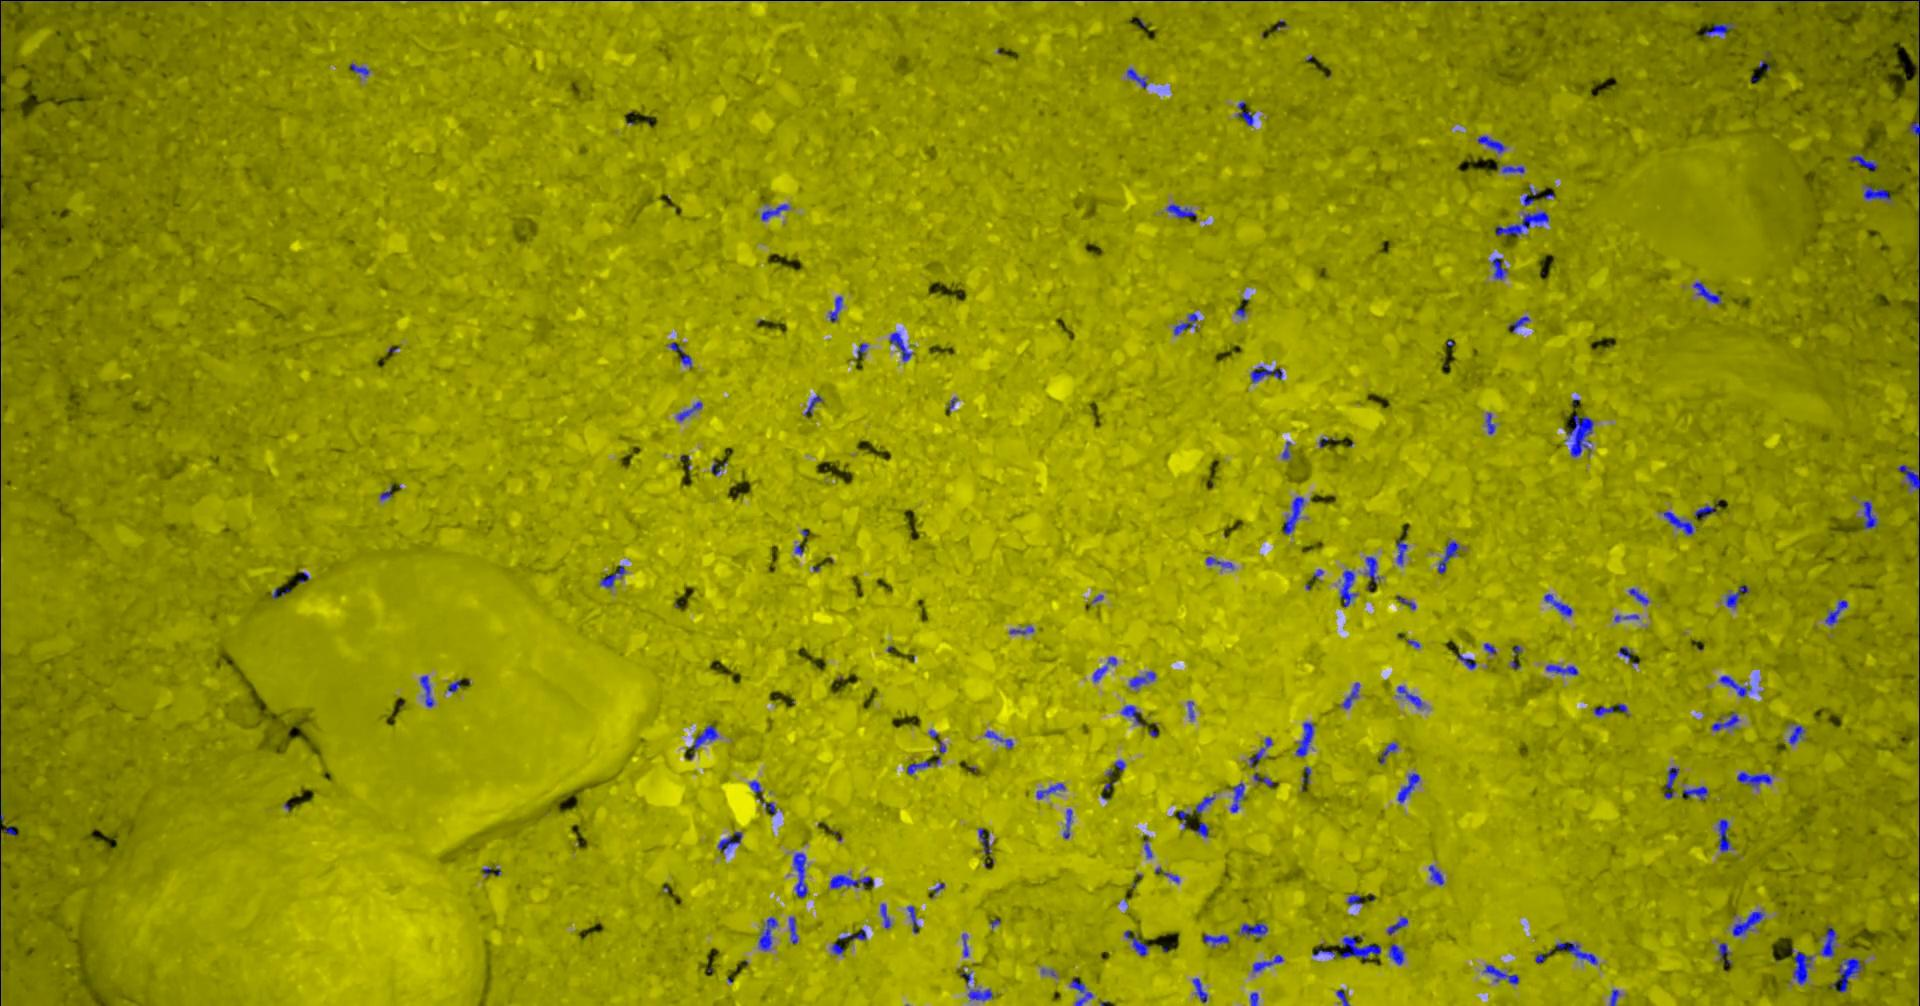ant: (1788, 0, 1919, 13), (1312, 936, 1380, 959), (1495, 211, 1548, 235), (1909, 20, 1919, 136), (1830, 956, 1862, 992), (1567, 415, 1592, 456), (1556, 941, 1597, 964), (1283, 495, 1303, 533), (1732, 911, 1763, 935), (1437, 540, 1459, 573), (692, 724, 717, 752), (889, 332, 913, 361), (1248, 737, 1272, 766), (792, 852, 808, 897), (1792, 951, 1812, 984), (1663, 511, 1693, 533), (1543, 593, 1572, 616), (1069, 976, 1092, 1005), (1719, 674, 1750, 696), (1338, 569, 1356, 606), (1483, 964, 1517, 983), (1123, 930, 1148, 955), (1397, 772, 1418, 801), (758, 917, 777, 950), (1823, 600, 1848, 625), (1693, 281, 1719, 304), (1396, 685, 1422, 708), (1295, 721, 1313, 756), (829, 874, 872, 888), (1250, 365, 1283, 382), (1736, 771, 1771, 788), (668, 342, 691, 367), (905, 757, 940, 774), (1820, 925, 1837, 956), (1848, 152, 1877, 171), (1897, 464, 1919, 489), (599, 565, 625, 587), (1252, 954, 1283, 972), (1710, 711, 1738, 730), (1173, 312, 1197, 334), (1724, 586, 1749, 607), (717, 831, 742, 852), (1477, 135, 1505, 152), (984, 730, 1012, 748), (676, 401, 701, 420), (761, 203, 789, 220), (1341, 682, 1359, 708), (1166, 203, 1195, 218), (1229, 782, 1244, 812), (419, 674, 433, 706), (1129, 671, 1156, 687), (1121, 705, 1143, 725), (1663, 767, 1677, 798), (1036, 782, 1064, 798), (1239, 922, 1267, 937), (1717, 819, 1730, 852), (1126, 67, 1147, 88), (905, 904, 919, 934), (1236, 102, 1253, 124), (1863, 184, 1890, 199), (1364, 556, 1379, 583), (1704, 22, 1732, 36), (1863, 500, 1877, 528), (1192, 977, 1208, 1002), (1379, 742, 1397, 763), (1491, 257, 1507, 279), (804, 395, 822, 415), (1385, 917, 1407, 934), (828, 296, 842, 321), (1681, 786, 1707, 800), (1203, 934, 1228, 948), (1694, 504, 1717, 520), (978, 827, 990, 854), (1628, 588, 1648, 605), (1194, 796, 1214, 813), (1507, 316, 1529, 332), (1388, 942, 1403, 964), (1545, 664, 1577, 674), (1205, 556, 1233, 568), (838, 929, 866, 940), (1523, 185, 1539, 205), (1457, 653, 1476, 669), (1788, 725, 1804, 744), (1062, 808, 1072, 838), (1396, 539, 1407, 564), (1429, 865, 1443, 884), (1718, 942, 1731, 963), (880, 903, 890, 927), (968, 989, 992, 1000), (349, 64, 368, 76), (1253, 774, 1272, 786), (789, 916, 797, 942), (1484, 412, 1495, 434), (1092, 666, 1107, 681), (1194, 821, 1208, 836), (1335, 989, 1349, 1005), (1592, 705, 1613, 715), (1501, 165, 1524, 173), (1010, 626, 1032, 634), (1347, 893, 1363, 904), (830, 942, 844, 954), (1609, 989, 1619, 1005)
